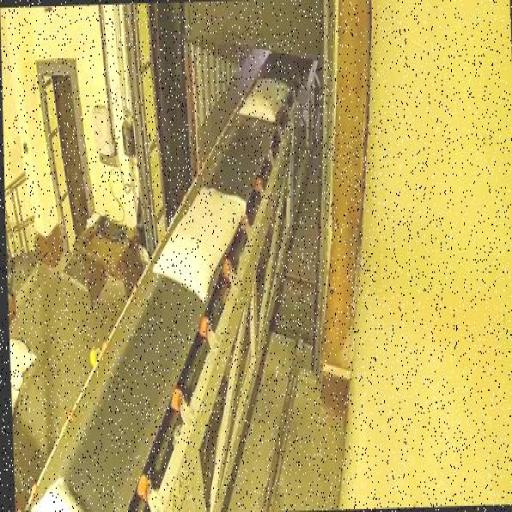c-belt-sack-count: (154, 187, 245, 300), (240, 78, 289, 123), (32, 478, 83, 510)
